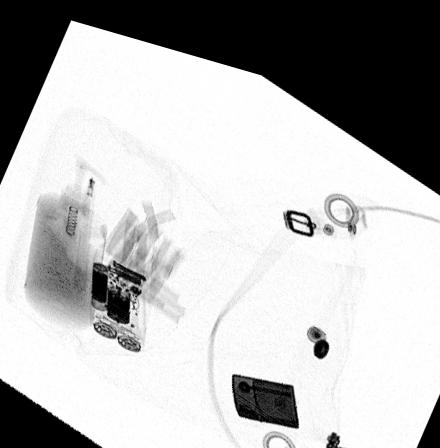Lighter: (230, 360, 298, 411)
